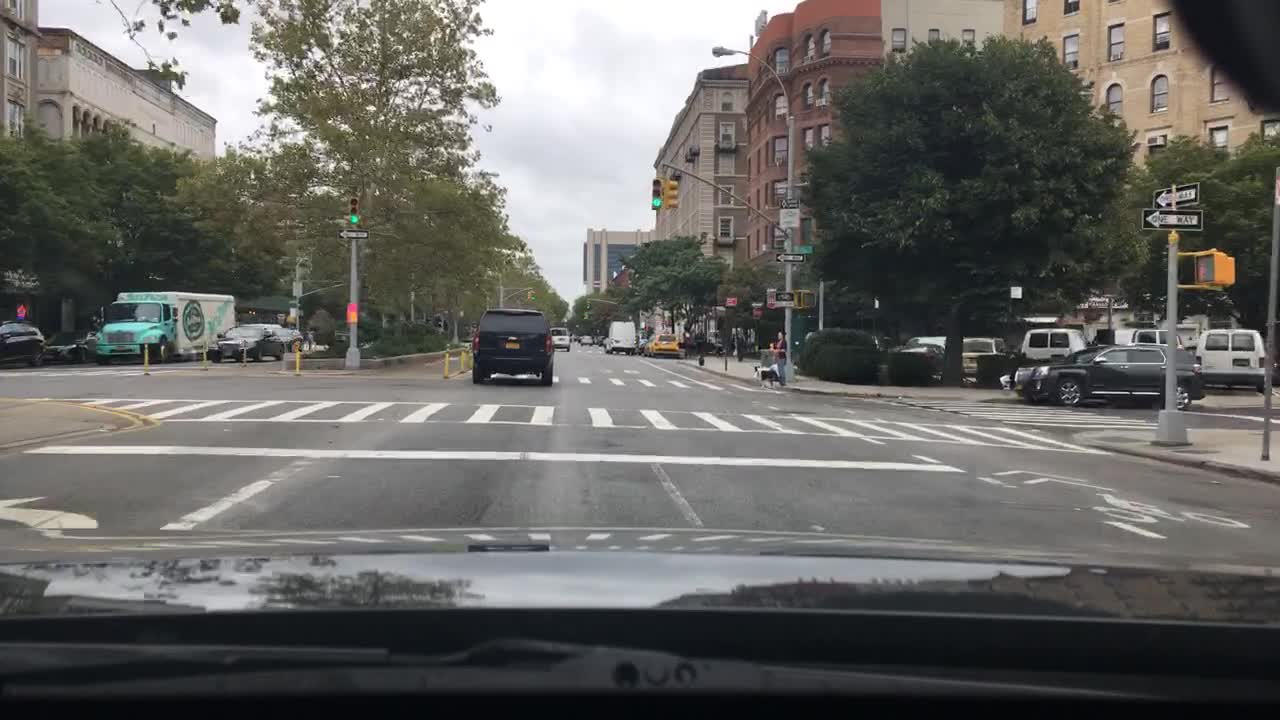car: (1010, 341, 1204, 411), (469, 308, 552, 384), (1195, 328, 1267, 393), (212, 326, 286, 359), (1020, 328, 1090, 359), (0, 319, 44, 368), (42, 331, 101, 361), (960, 338, 1006, 376), (1119, 329, 1200, 343), (890, 343, 944, 363), (642, 333, 680, 356), (1136, 329, 1182, 346), (284, 329, 314, 349), (908, 335, 947, 350), (551, 329, 572, 351), (581, 334, 593, 346)
person: (767, 331, 787, 388)
traffic light: (1195, 250, 1235, 286), (346, 197, 359, 227), (667, 179, 680, 209), (651, 179, 663, 208), (801, 291, 818, 306)
traffic sign: (1140, 208, 1202, 230), (1151, 182, 1202, 207), (781, 199, 799, 227), (772, 289, 794, 306), (336, 228, 370, 239), (776, 253, 804, 262), (793, 244, 814, 252), (726, 296, 736, 306), (751, 299, 764, 306)
truck: (97, 291, 235, 358), (606, 321, 636, 355)
